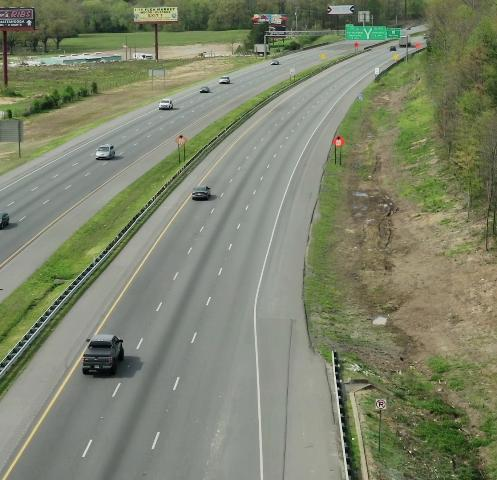car: (95, 137, 118, 161), (191, 183, 215, 203), (159, 99, 173, 110), (0, 212, 9, 229), (219, 76, 230, 84), (200, 86, 210, 93)
pickup-truck: (81, 329, 127, 377)
